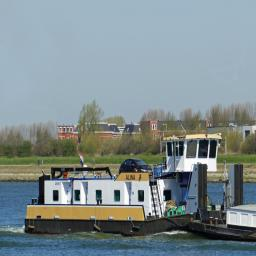tugboat: (23, 130, 248, 240)
